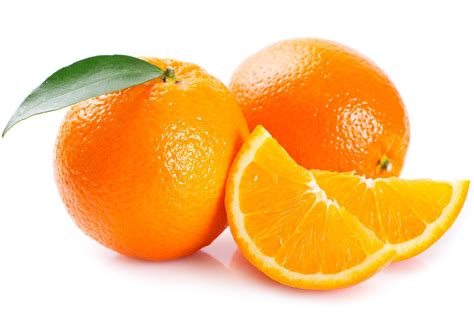orange: (53, 57, 254, 261), (232, 32, 413, 180)
